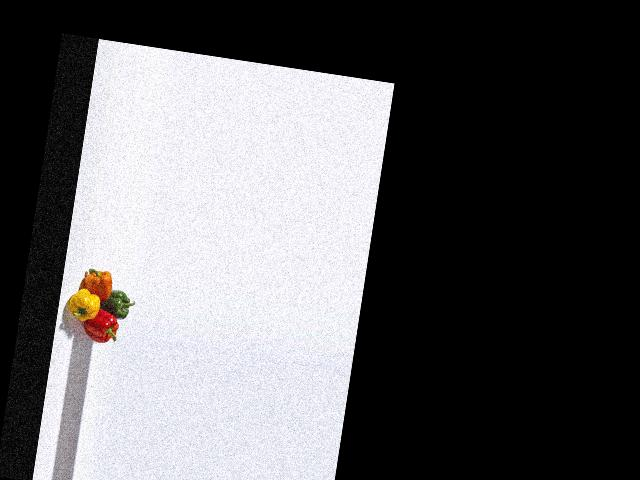bell_pepper: (80, 307, 124, 346)
